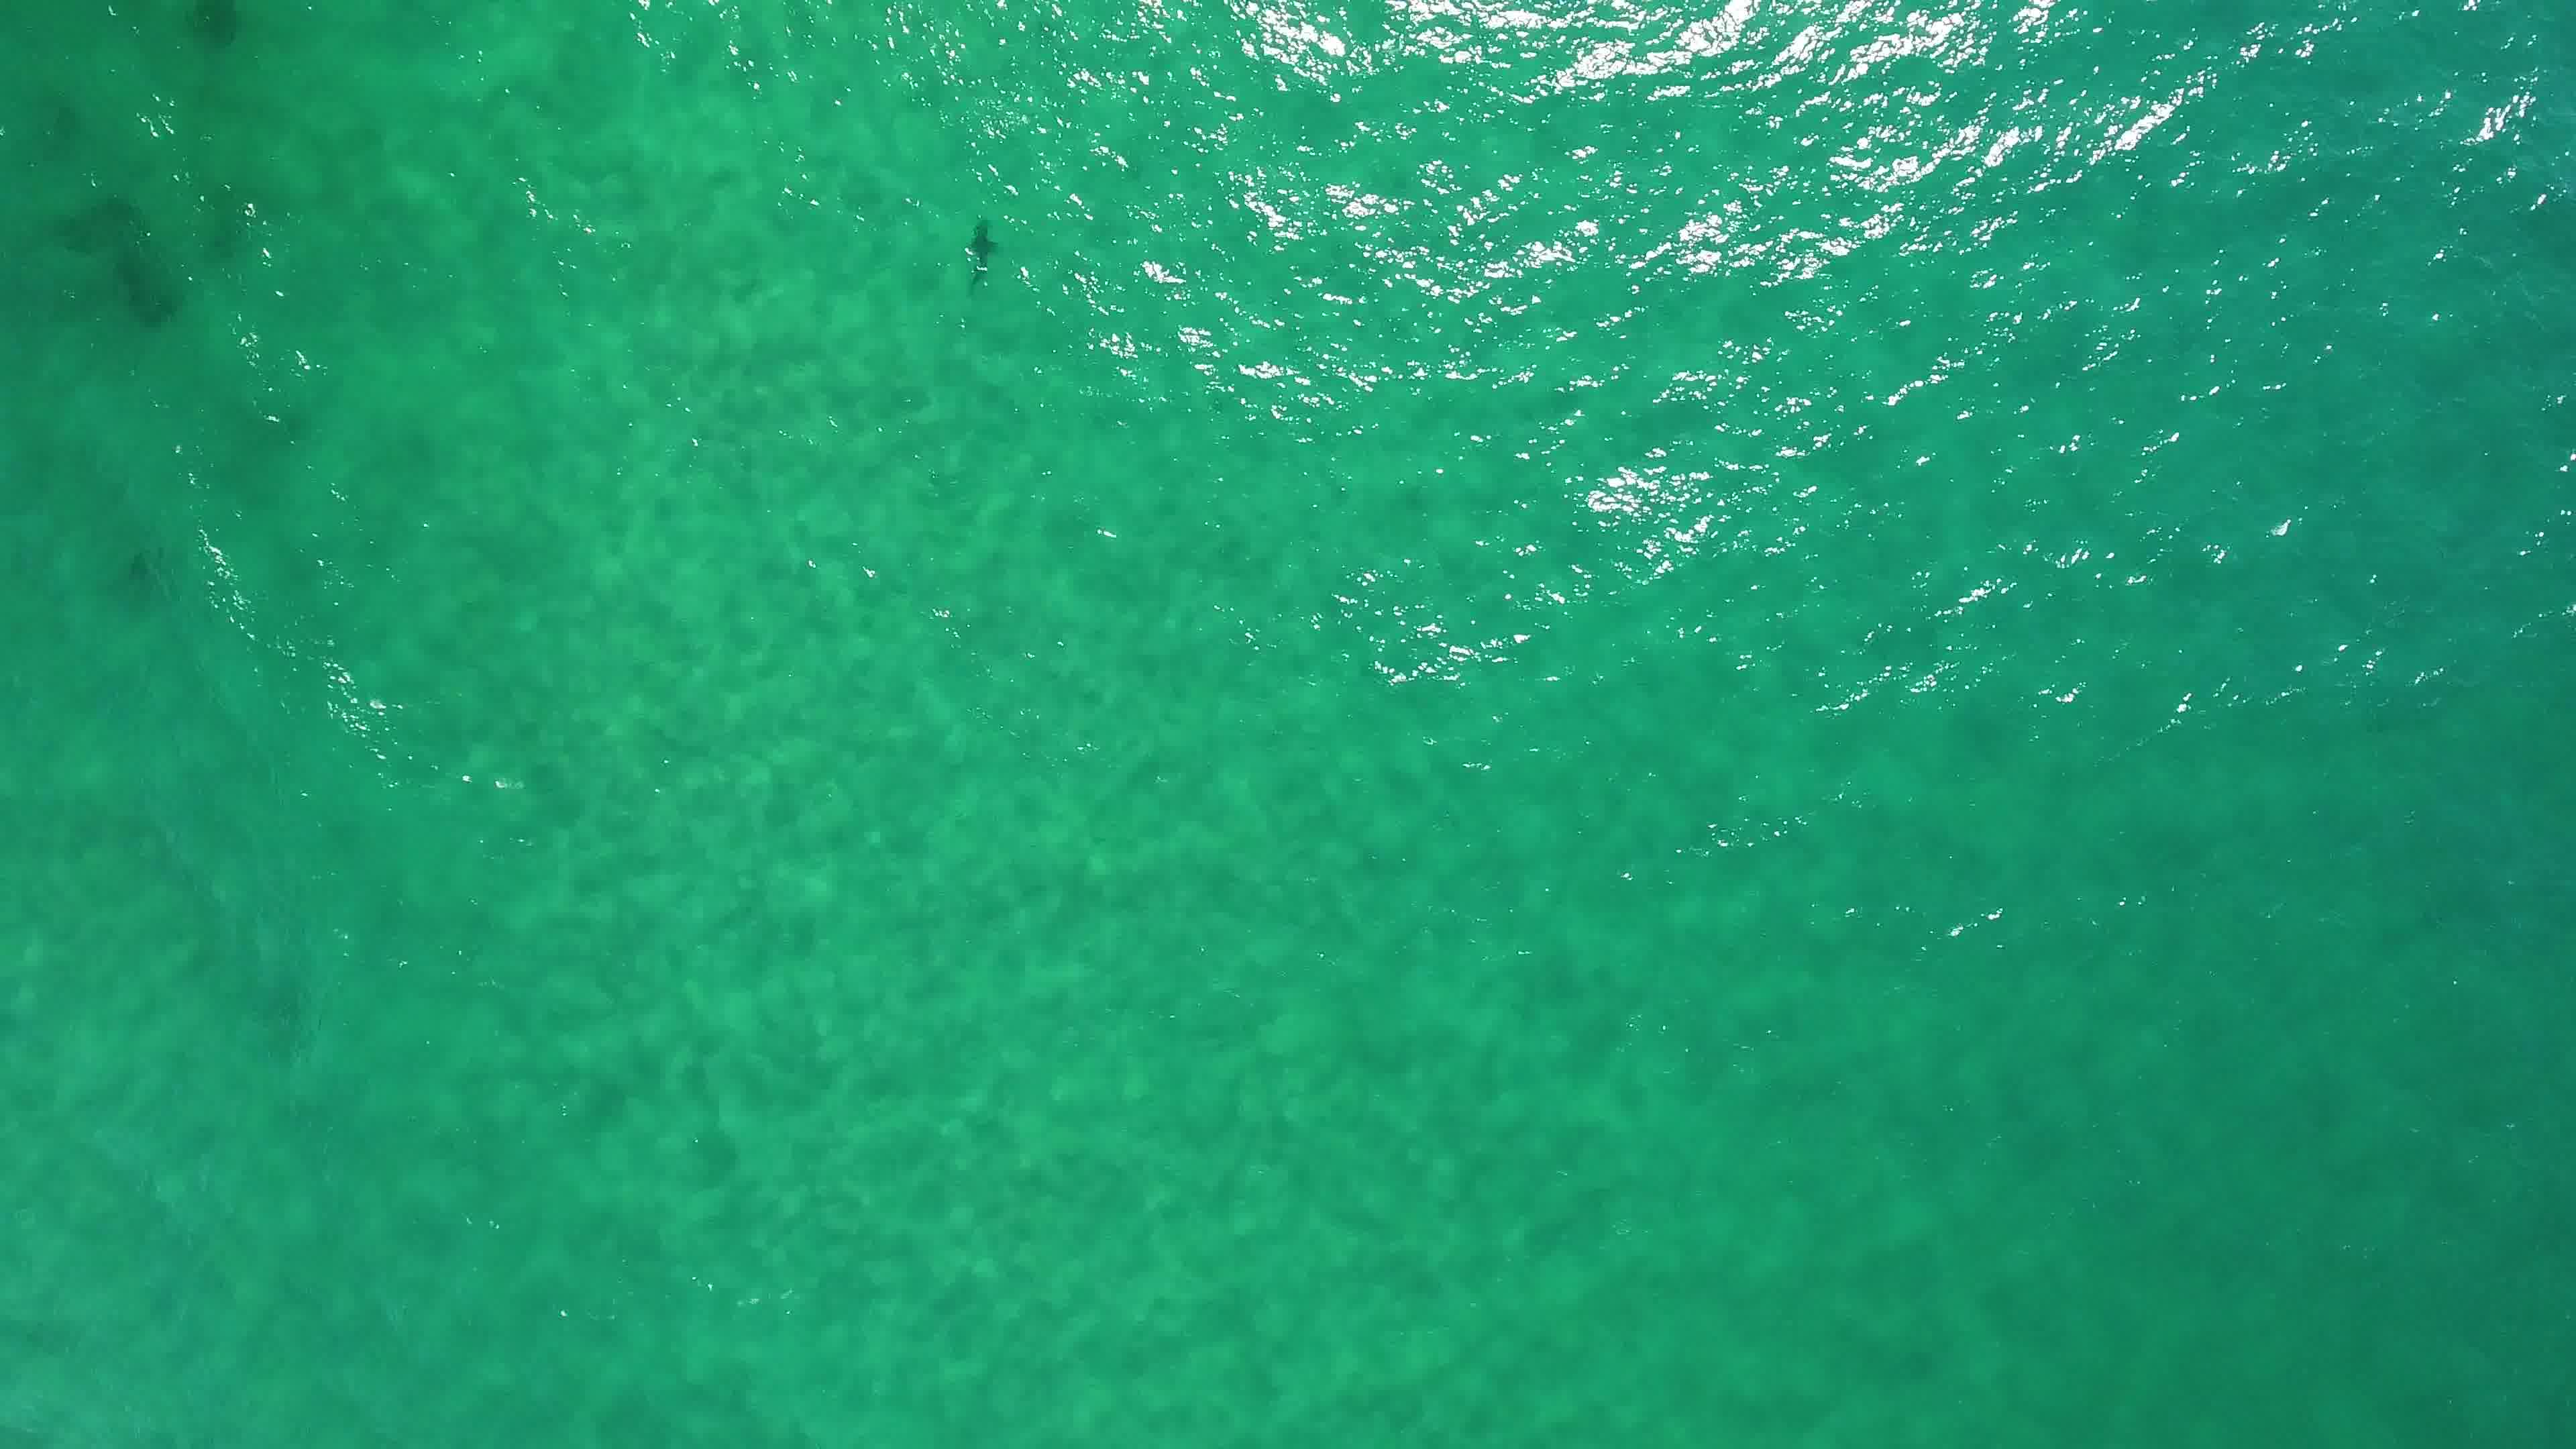shark: (957, 216, 1005, 299)
